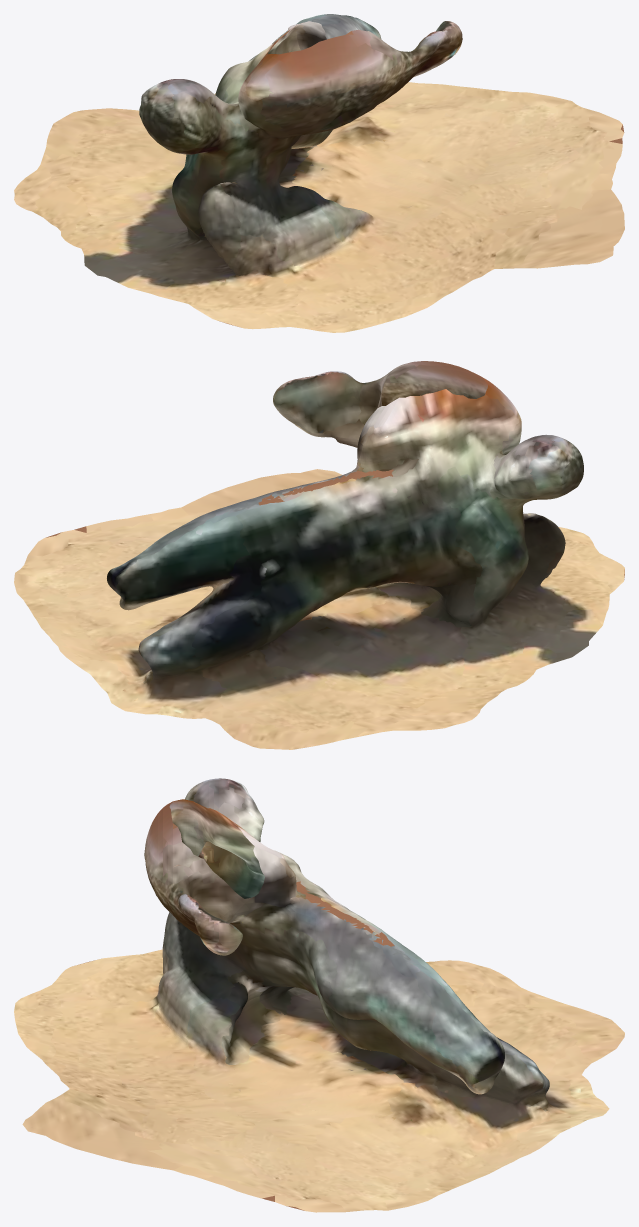
The model's file is preview.glb.
3 renders of one model, top to bottom at view 1: azimuth 30°, elevation 25°; view 2: azimuth 150°, elevation 25°; view 3: azimuth 270°, elevation 25°, orthographic. The views are drawn at different scales.
Visible parts, largest first — view 1: Object_2; view 2: Object_2; view 3: Object_2.
Part boxes in pixels (box(x1,y1,x2,y2)): Object_2: box(14, 14, 624, 332); Object_2: box(14, 361, 624, 749); Object_2: box(14, 778, 624, 1212).
Bounding box in the file's own units: 7.96 × 3.28 × 7.66.
1 material, 1 textured.
